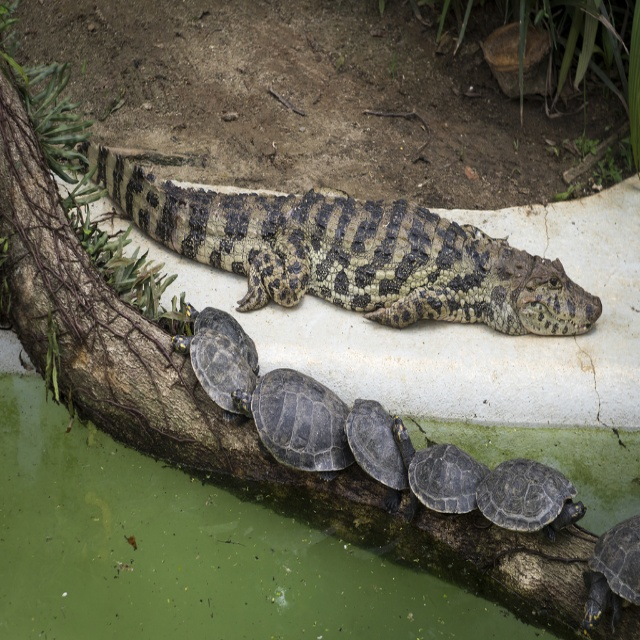Sea turtle: (172, 301, 640, 635)
